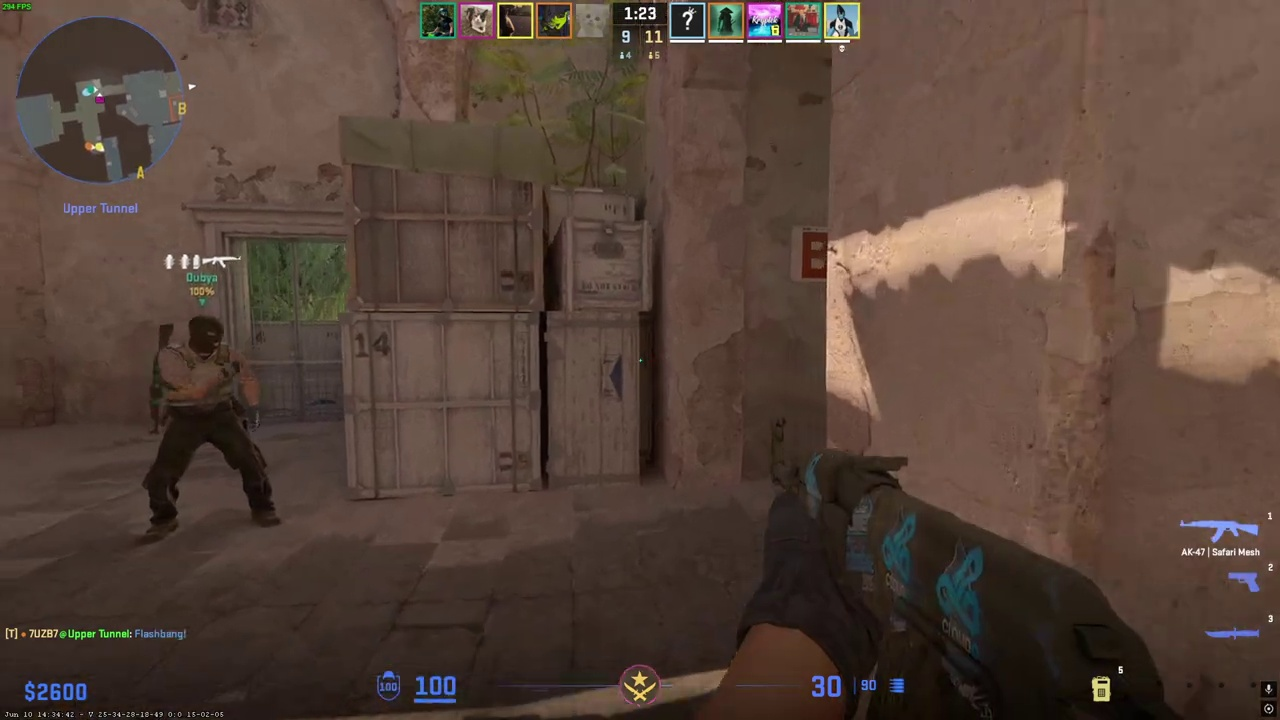Terrorist: (133, 312, 273, 546)
